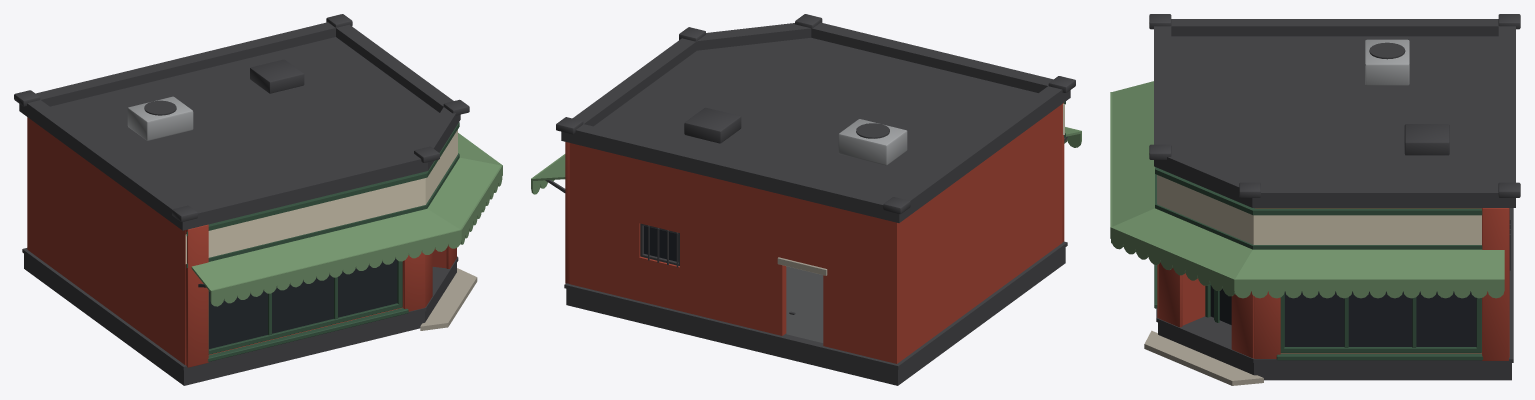
Rendered from Shopfront.fbx.
The picture shows the model from 3 angles, left to right: view 1: azimuth 30°, elevation 25°; view 2: azimuth 150°, elevation 25°; view 3: azimuth 270°, elevation 25°; orthographic projection. The views are drawn at different scales.
Visible parts, largest first — view 1: Shopfront_Mesh; view 2: Shopfront_Mesh; view 3: Shopfront_Mesh.
Part boxes in pixels (<box>): Shopfront_Mesh: <box>14,14,502,385</box>; Shopfront_Mesh: <box>531,14,1081,385</box>; Shopfront_Mesh: <box>1110,14,1520,385</box>.
Bounding box in the file's own units: 9.22 × 4.48 × 8.22.
